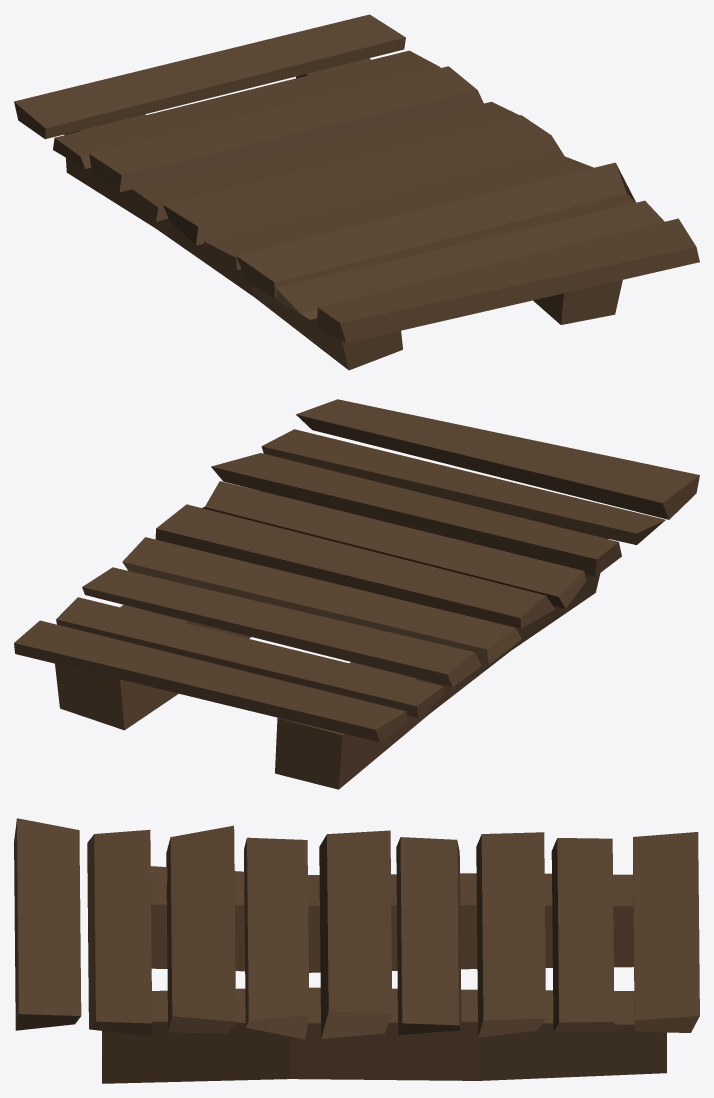
The model's file is MovableIce.fbx.
The picture shows the model from 3 angles, top to bottom: view 1: azimuth 30°, elevation 25°; view 2: azimuth 150°, elevation 25°; view 3: azimuth 270°, elevation 25°; orthographic projection. The views are drawn at different scales.
Visible parts, largest first — view 1: Plane.004; view 2: Plane.004; view 3: Plane.004.
Part boxes in pixels (x1,y1,x2,y2): Plane.004: [14, 14, 699, 370]; Plane.004: [14, 399, 699, 789]; Plane.004: [14, 818, 699, 1083].
Size of the model in its own units: 344 by 84 by 505.
